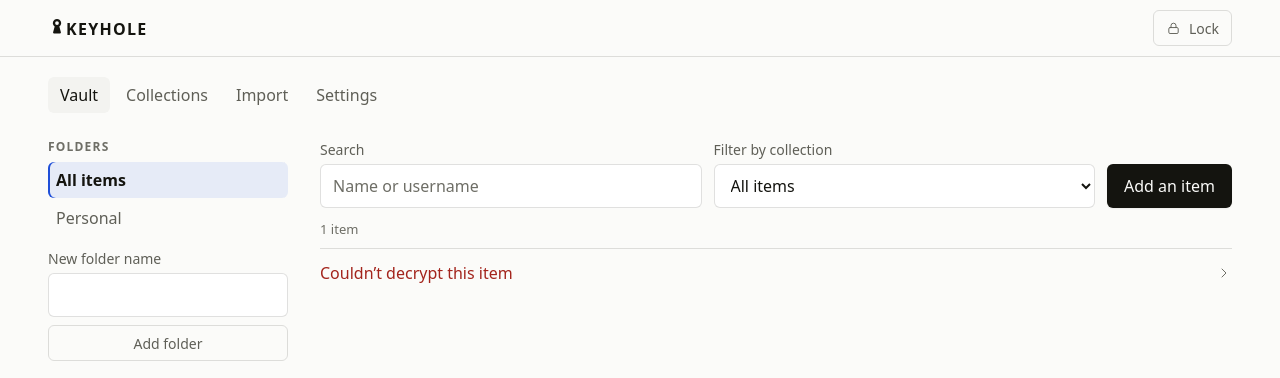
VaultScreen undecryptable items › refuses to open an item this device cannot decrypt, and explains why instead
Click the button "Couldn’t decrypt this item" at (416, 272), box [308, 248, 1244, 296]
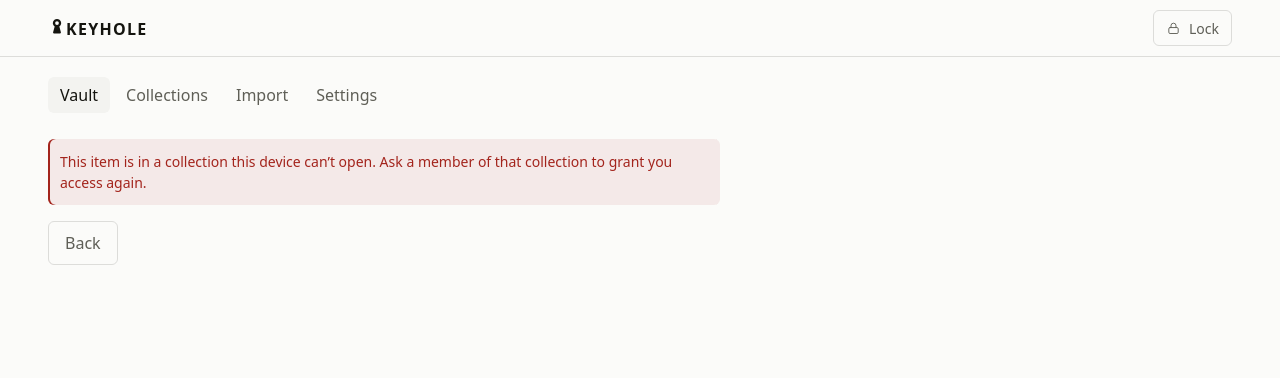
Check: the field labelled "name" is not shown
Check: the text "ask a member of that collection to grant you access again" is shown, box [60, 152, 672, 192]
